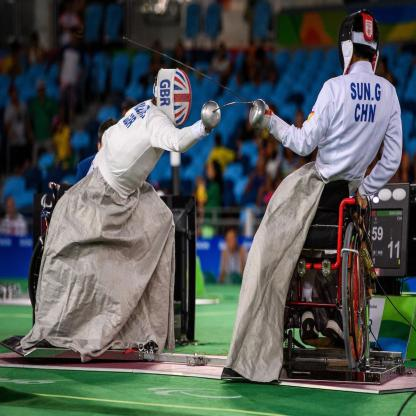fencer: (236, 7, 411, 245), (35, 54, 223, 237)
